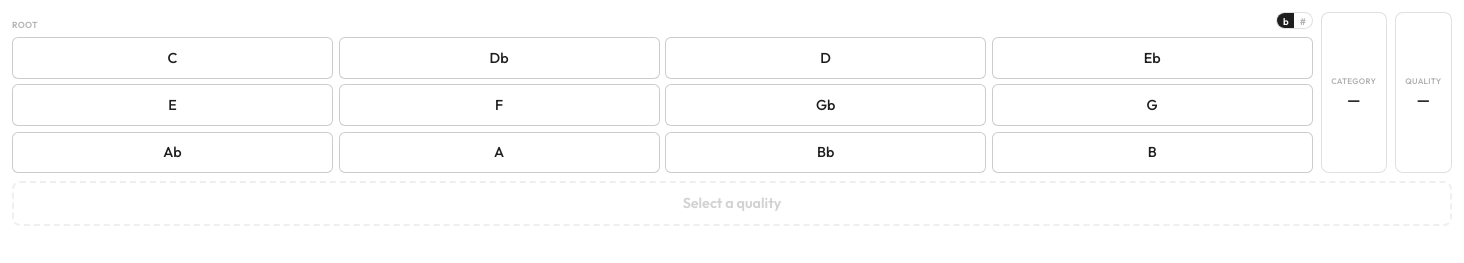
ChordSelector — stepping mode › add button enables after selecting root, category, and quality
Click the button "C".
click(172, 58)  # box [12,37,333,79]
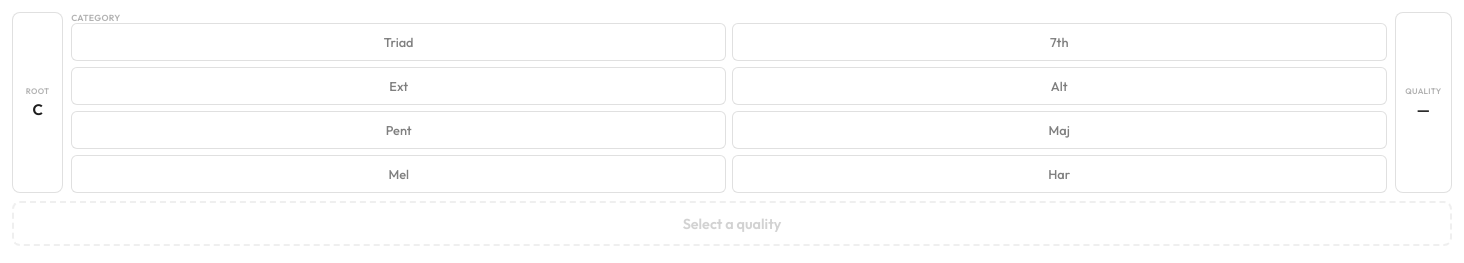
Click the button "Triad".
click(399, 42)  # box [71,23,726,61]
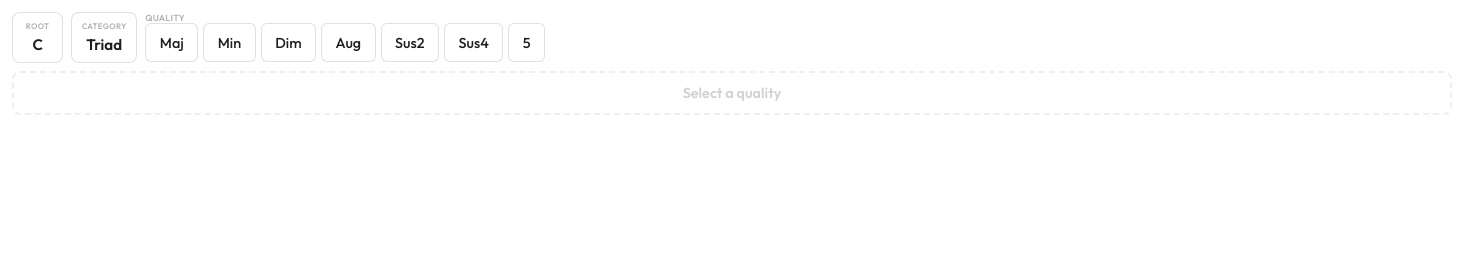
Now the button with class "chord-quality-btn" reads "Maj"
Click the button with class "chord-quality-btn" showing "Maj".
click(172, 43)  # box [145,23,198,62]
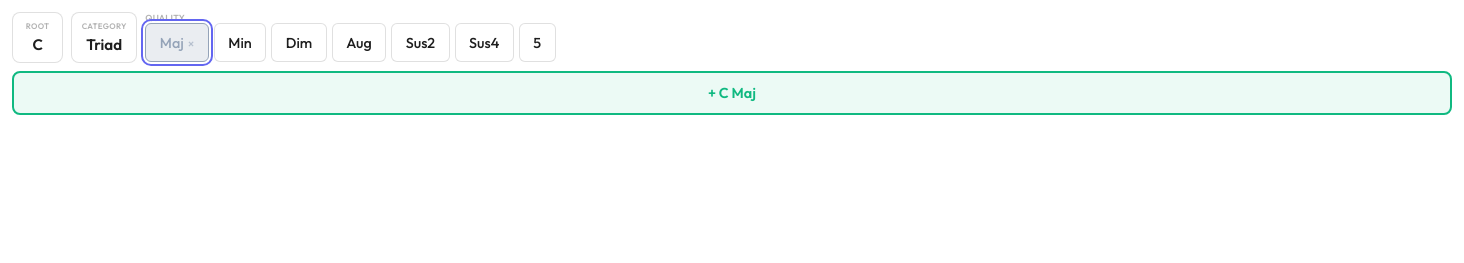
Now the button with class "add-to-song-btn" is enabled, box [12,71,1452,115]
Now the button with class "add-to-song-btn" shows "C Maj", box [12,71,1452,115]
